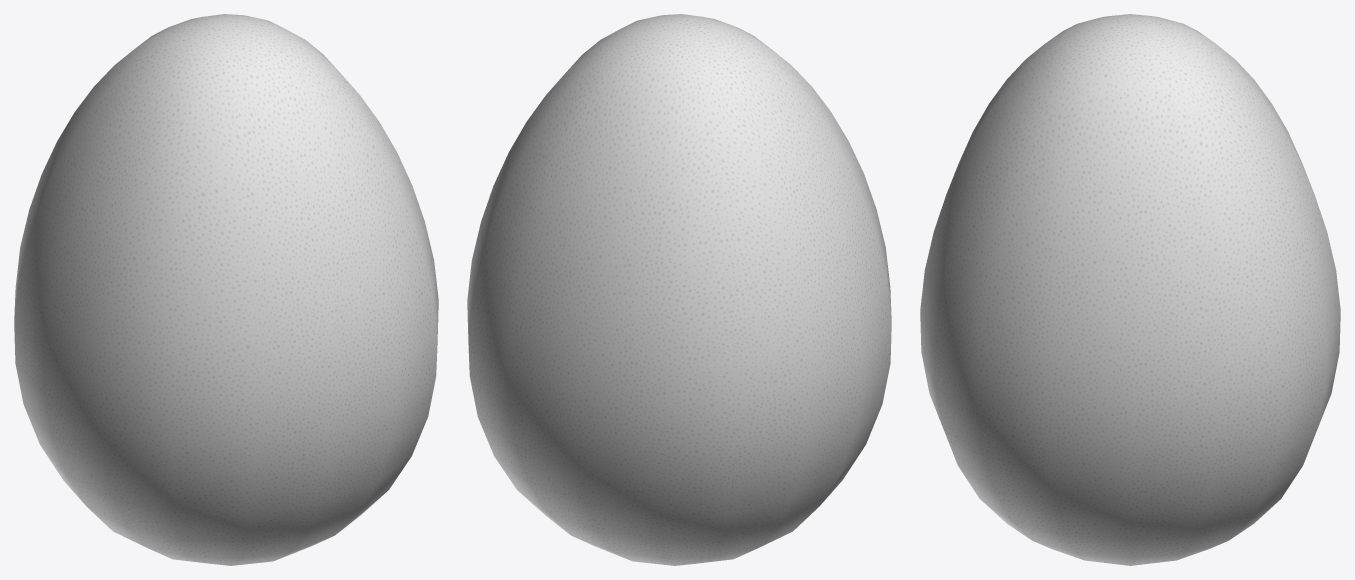
Rendered from white_egg_by_Andreas_Piel.fbx.
3 views of the same model, side by side, from view 1: azimuth 30°, elevation 25°; view 2: azimuth 150°, elevation 25°; view 3: azimuth 270°, elevation 25° (orthographic).
Parts seen in each view (by area): view 1: egg; view 2: egg; view 3: egg.
Part boxes in pixels (x1,y1,x2,y2): egg: [14, 14, 438, 565]; egg: [467, 14, 891, 565]; egg: [920, 14, 1340, 565].
Bounding box in the file's own units: 20.63 × 28.11 × 20.63.
1 material, 1 textured.
